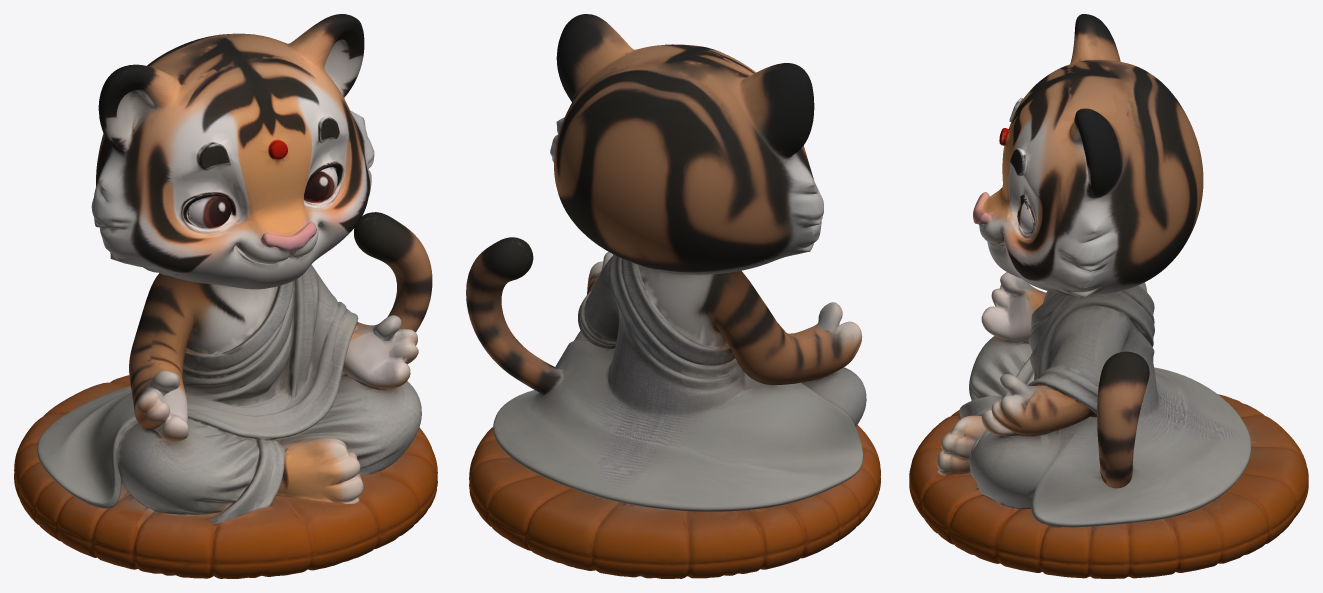
File: tiger-meditate-closed.glb
3 views of the same model, side by side, from view 1: azimuth 30°, elevation 25°; view 2: azimuth 150°, elevation 25°; view 3: azimuth 270°, elevation 25° (orthographic). The views are drawn at different scales.
Visible parts, largest first — view 1: node_0; view 2: node_0; view 3: node_0.
Part boxes in pixels (left/top/right/bottom): node_0: left=14, top=14, right=437, bottom=578; node_0: left=466, top=14, right=880, bottom=578; node_0: left=909, top=14, right=1308, bottom=578.
Bounding box in the file's own units: 0.8109 × 0.9231 × 0.7662.
Materials: 1 (1 with a texture image).
